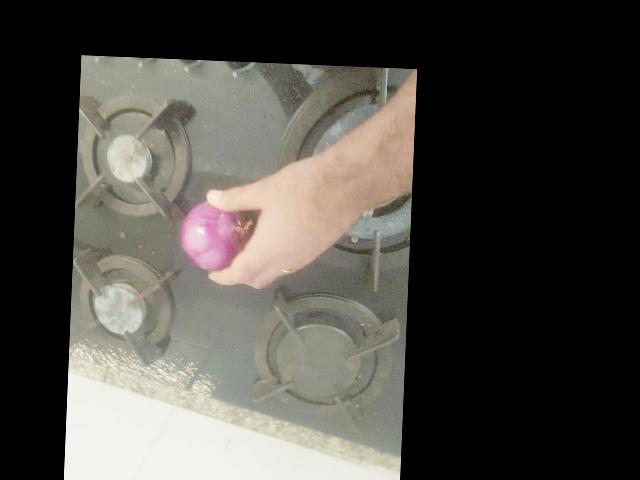onion: (183, 197, 244, 268)
